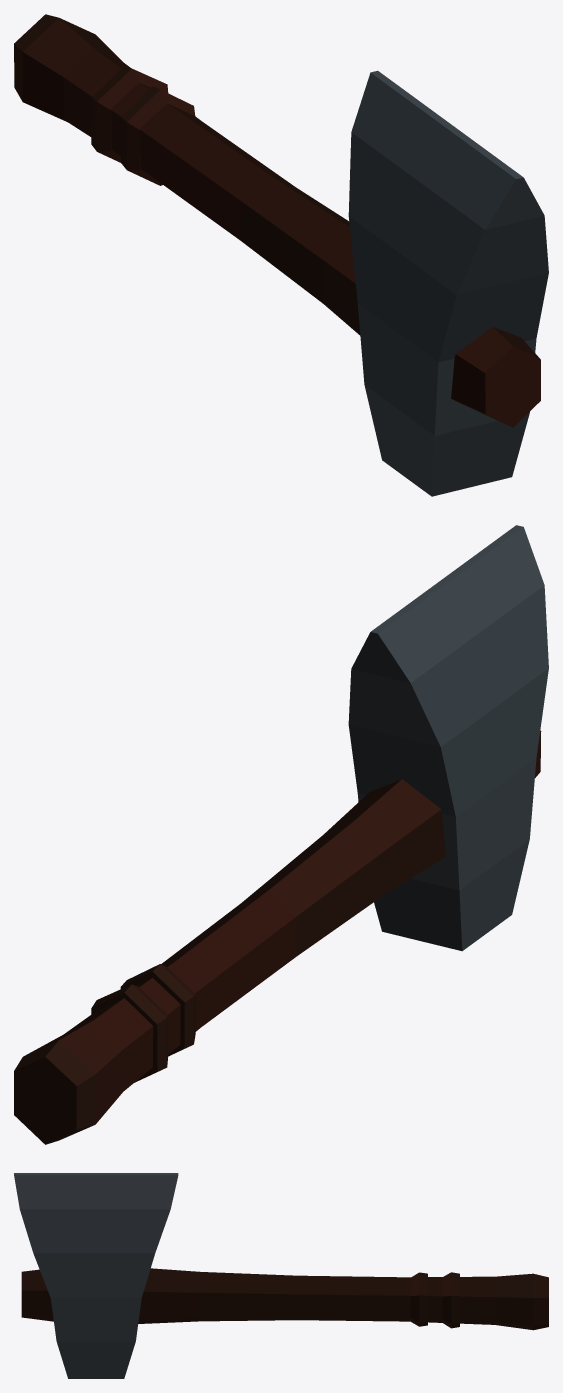
The model's file is axe_c.obj.
The picture shows the model from 3 angles, top to bottom: view 1: azimuth 30°, elevation 25°; view 2: azimuth 150°, elevation 25°; view 3: azimuth 270°, elevation 25°; orthographic projection. The views are drawn at different scales.
Parts seen in each view (by area): view 1: head, handle; view 2: head, handle; view 3: head, handle.
Part boxes in pixels (left/top/right/bottom): head: left=348, top=70, right=548, bottom=496; handle: left=14, top=14, right=540, bottom=427; head: left=348, top=525, right=548, bottom=951; handle: left=14, top=730, right=541, bottom=1144; head: left=14, top=1173, right=178, bottom=1378; handle: left=21, top=1268, right=548, bottom=1330.
Bounding box in the file's own units: 0.066 × 0.221 × 0.553.
